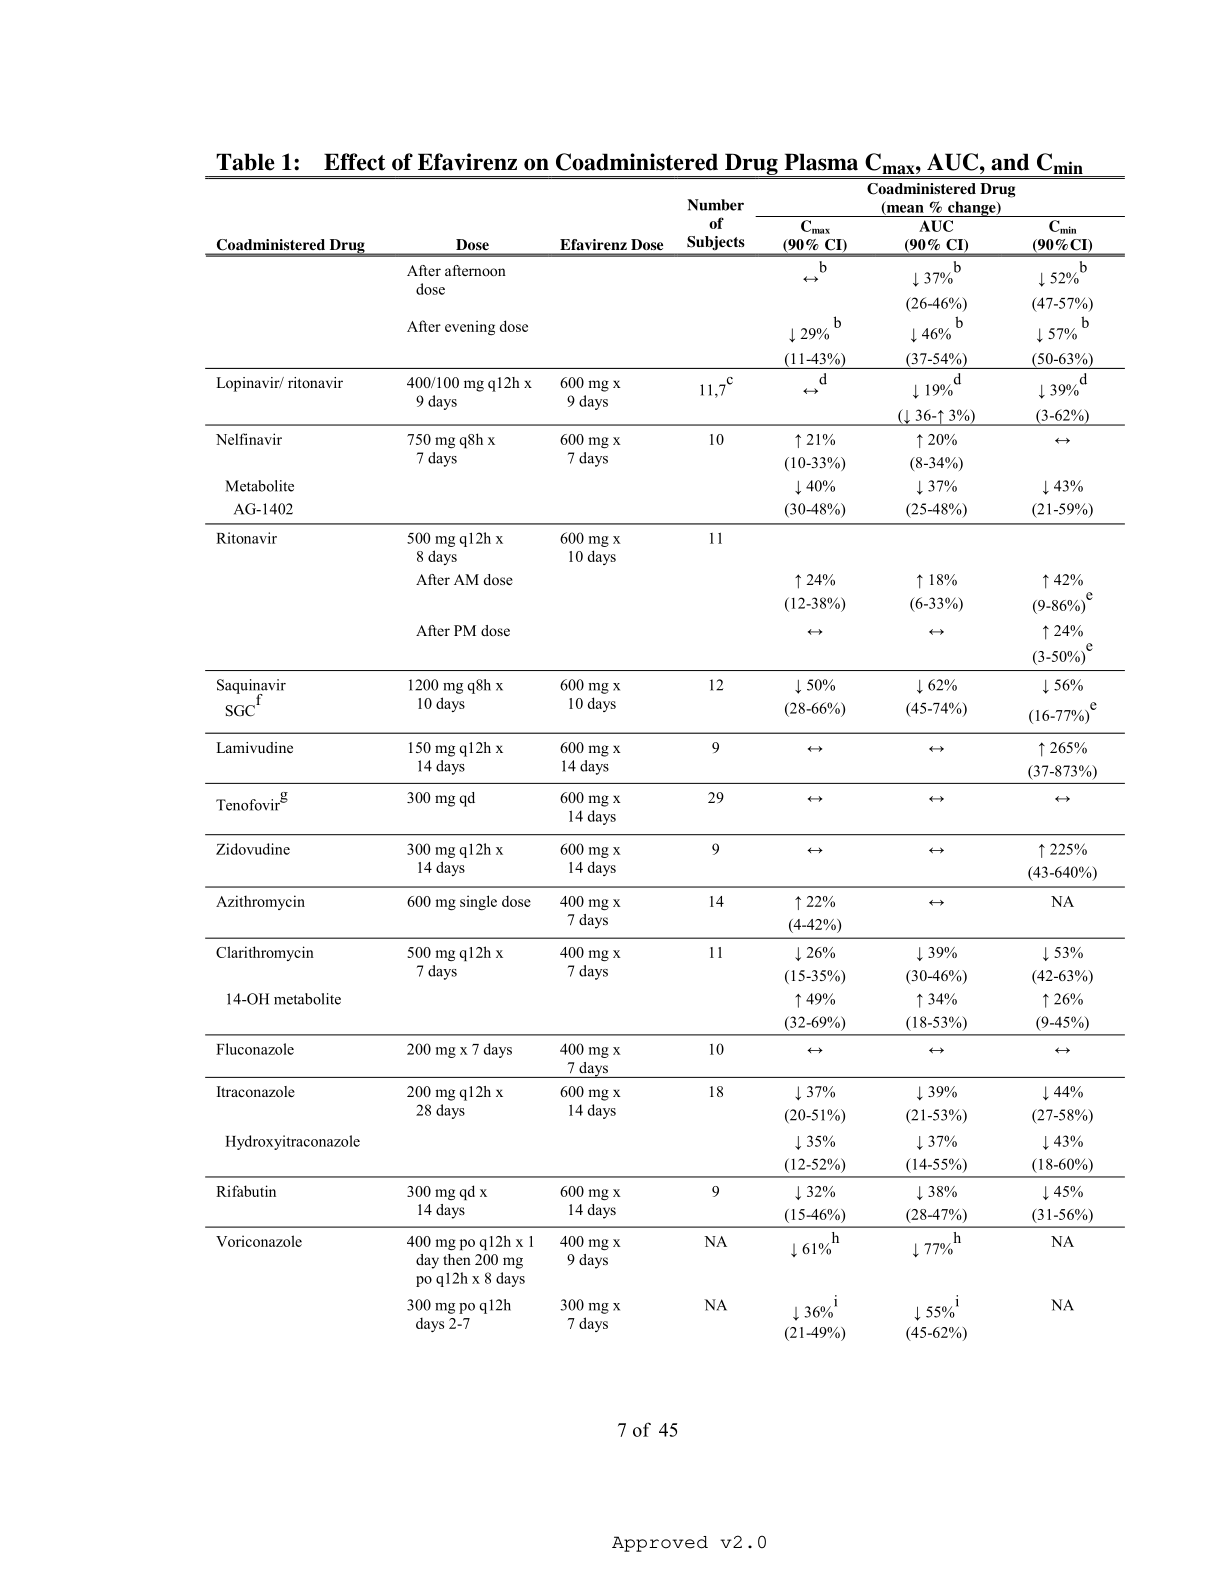partial_lined_merged_cells: (204, 174, 1125, 1345)
